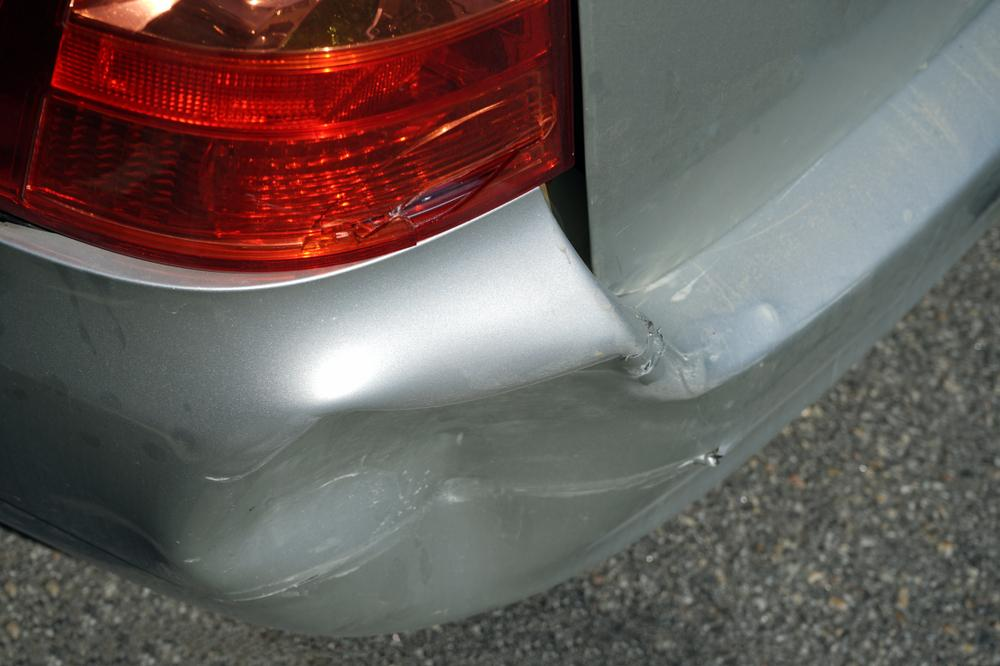dent: (206, 353, 698, 615)
lamp broken: (0, 0, 580, 275)
